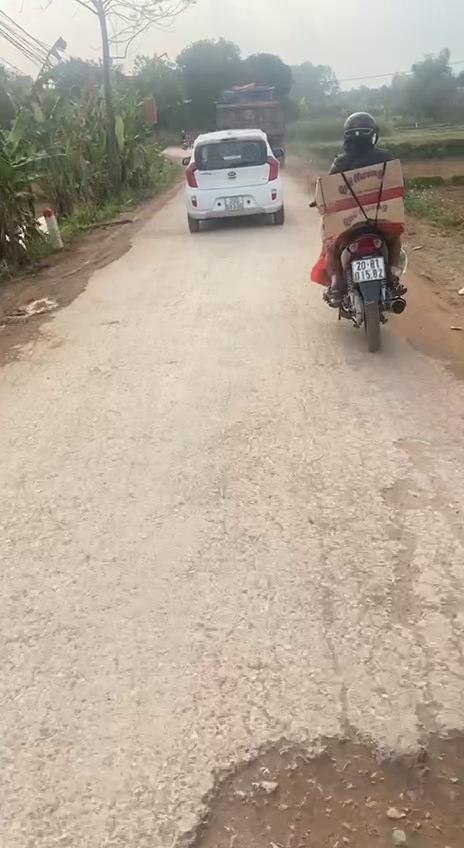pothole: (173, 716, 464, 848), (365, 466, 440, 636)
